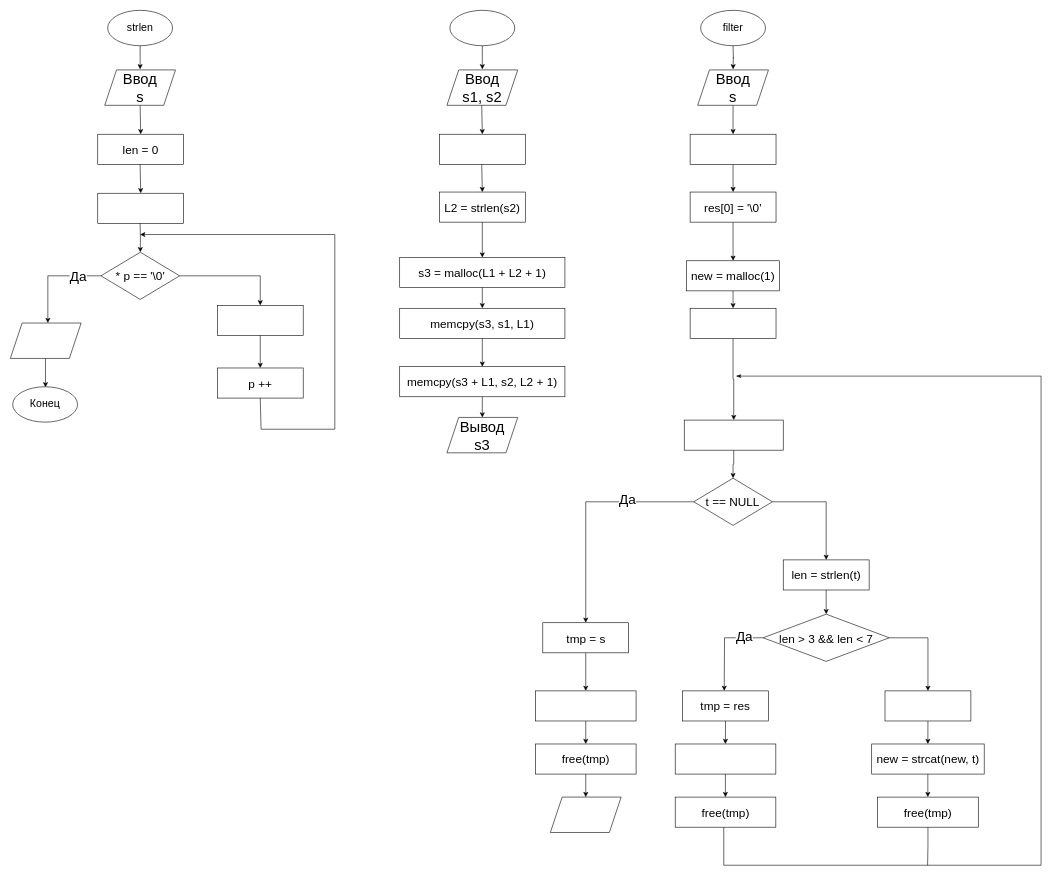
Image size: 1056x880. Some labels were removed from this diagram. Here are the shapes that lost their labels. From the top down, the box of each, then its label:
(449, 10, 515, 46): strcat
(439, 134, 525, 164): L1 = strlen(s1)
(690, 134, 776, 164): res = malloc(1)
(97, 193, 184, 223): * p = s
(10, 322, 81, 358): Вывод len
(217, 305, 303, 335): len ++
(690, 308, 776, 338): new[0] = '\0'
(684, 419, 783, 450): t = strtok(s, " \t")
(535, 690, 636, 721): s = new
(884, 690, 971, 721): tmp = new
(675, 743, 776, 774): res = strcat(res, t)
(550, 796, 621, 832): Вывод res
